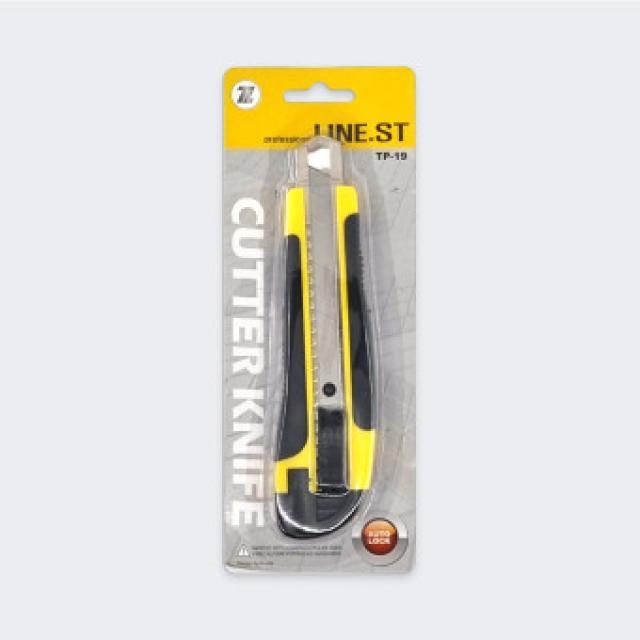cutter: (256, 127, 393, 537)
